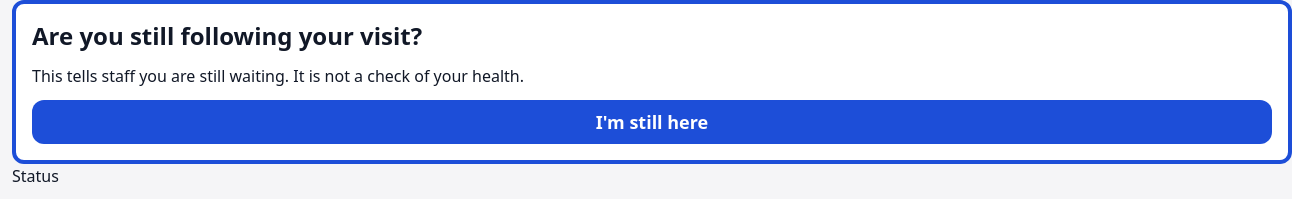
Scenario: StillHerePrompt tap › keeps the status box hidden after the tap and shows the thank-you in a card screen readers can touch
Click the button "I'm still here" at [652, 122], box [32,100,1272,144]
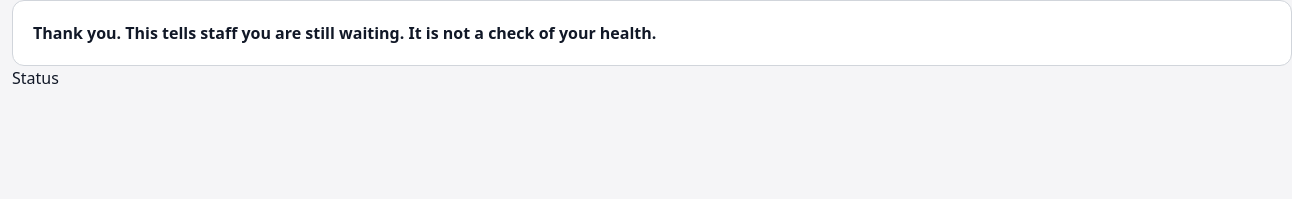
Expected: the text with test id "still-here-card" shows "Thank you.", [33,22,121,44]
